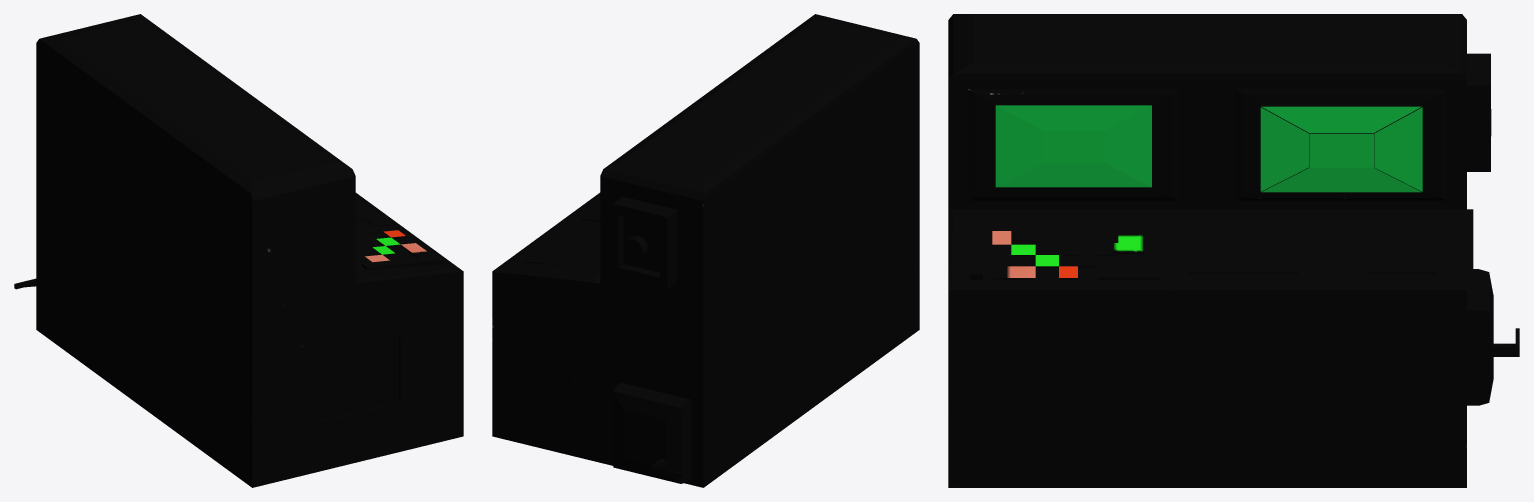
Rendered from terminal.fbx.
The picture shows the model from 3 angles, left to right: view 1: azimuth 30°, elevation 25°; view 2: azimuth 150°, elevation 25°; view 3: azimuth 270°, elevation 25°; orthographic projection. The views are drawn at different scales.
Parts seen in each view (by area): view 1: Terminal; view 2: Terminal; view 3: Terminal.
Boxes of the visible parts, x1,y1,x2,y2 form: Terminal: [14, 14, 463, 487]; Terminal: [492, 14, 919, 487]; Terminal: [948, 14, 1519, 487].
Size of the model in its own units: 765 by 1024 by 1492.
